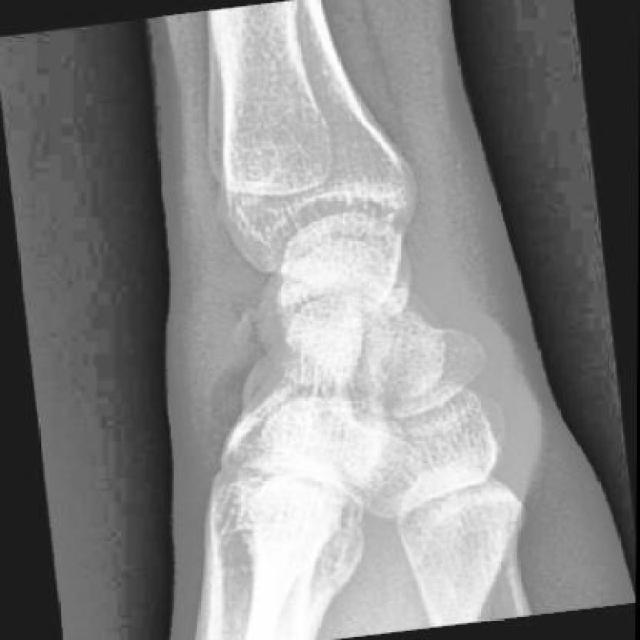Fracture: (229, 282, 308, 371)
